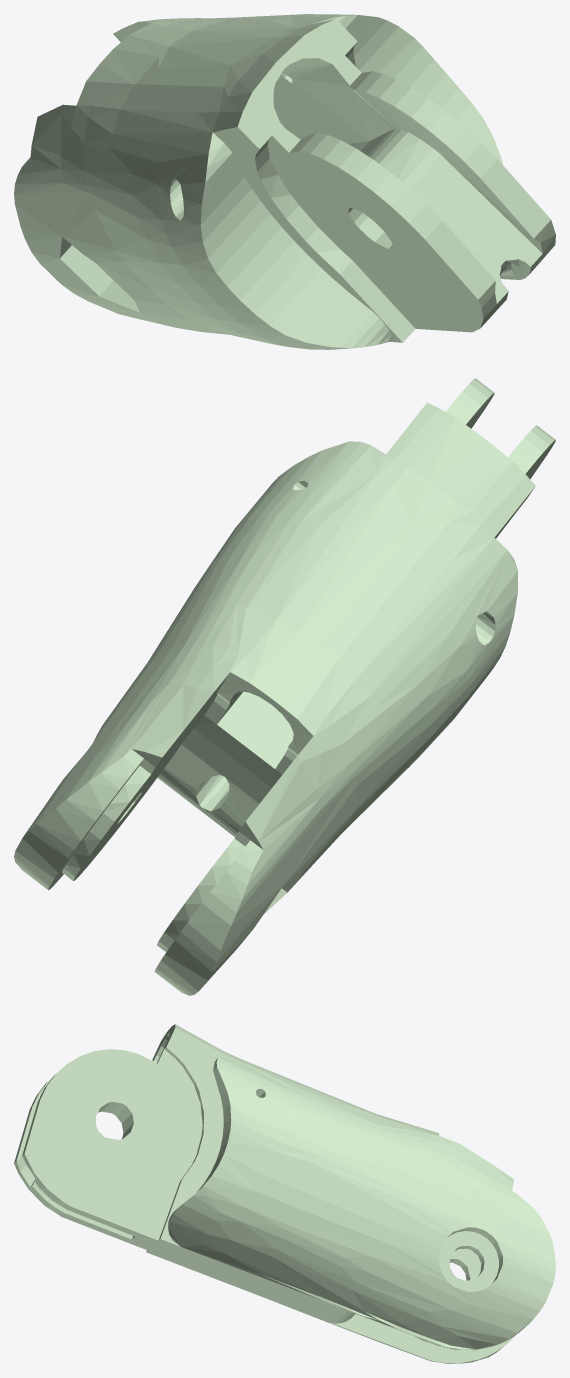
File: i02_rightHand_ringFingerPhal_visual.obj.light.glb
3 views of the same model, one above another, from view 1: azimuth 30°, elevation 25°; view 2: azimuth 150°, elevation 25°; view 3: azimuth 270°, elevation 25° (orthographic). The views are drawn at different scales.
Bounding box in the file's own units: 0.214 × 0.323 × 0.5002.
